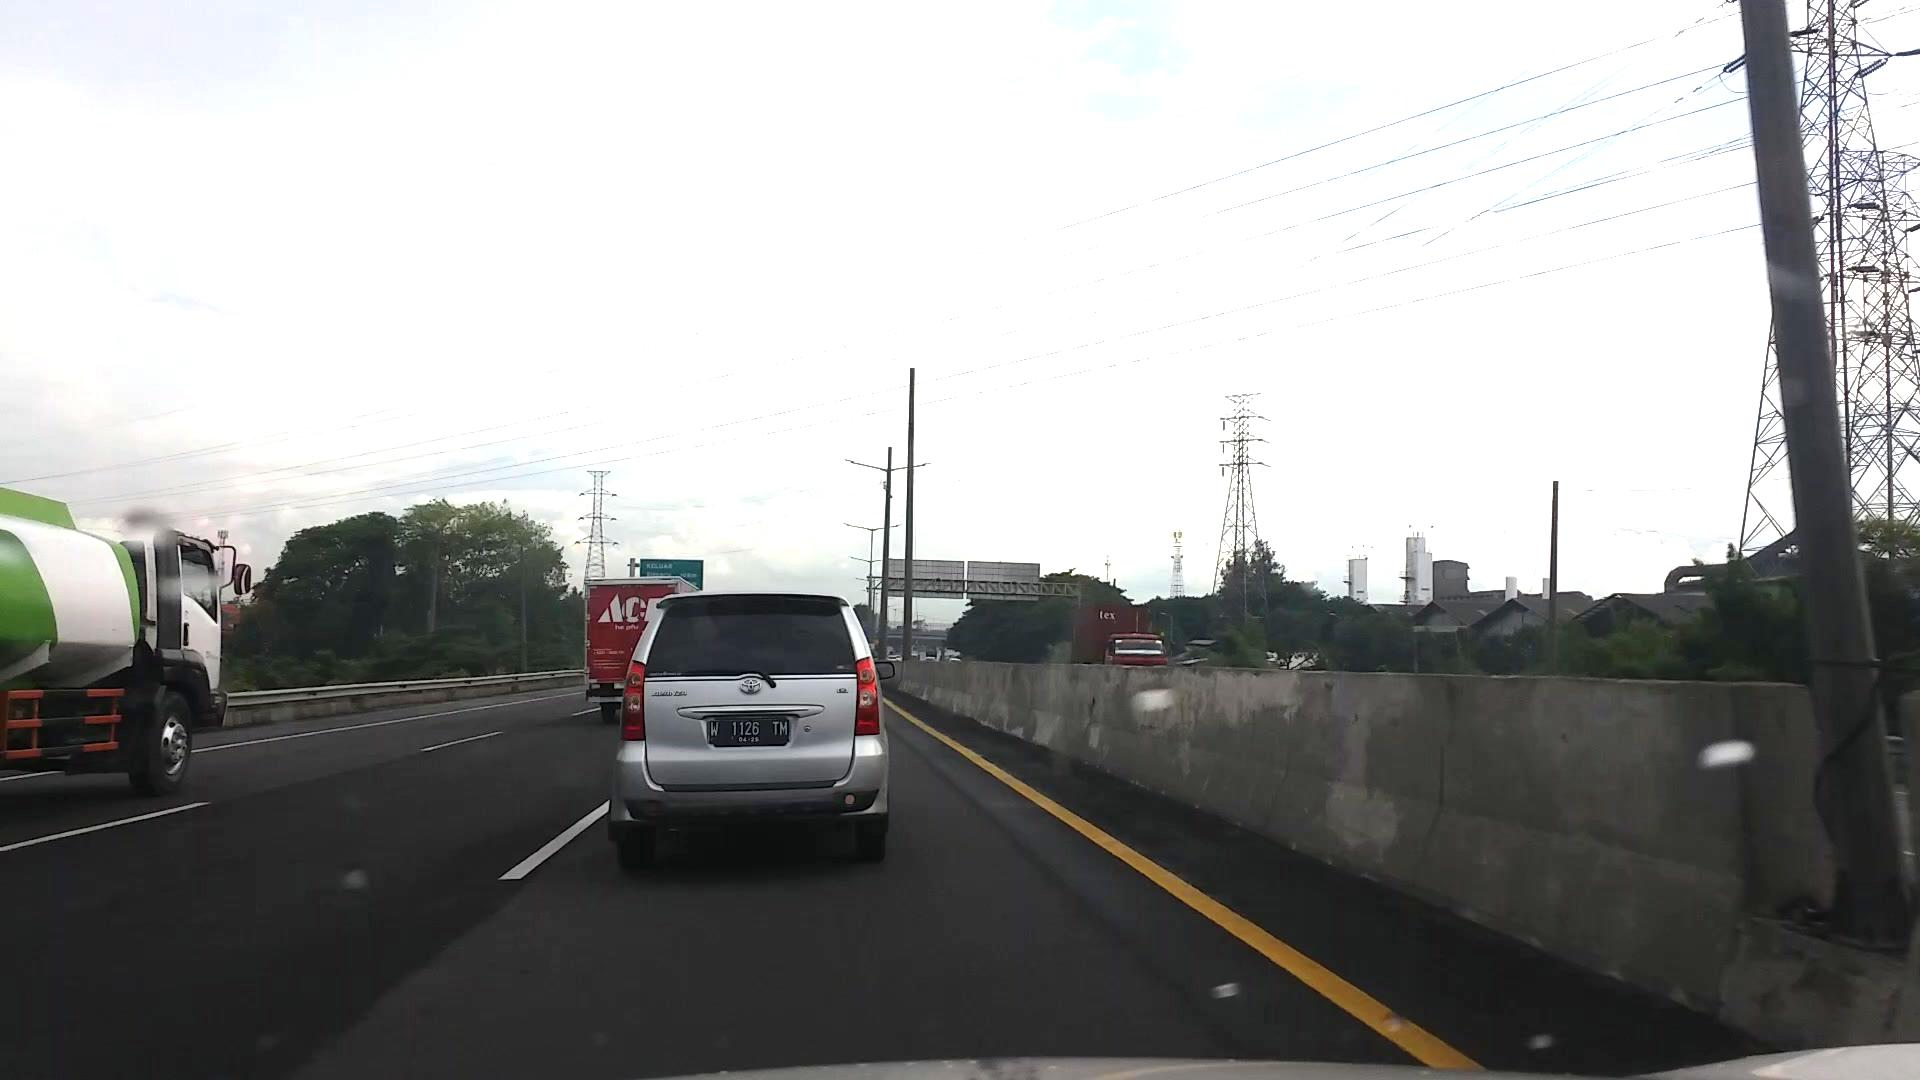plate_positive: (707, 719, 789, 746)
